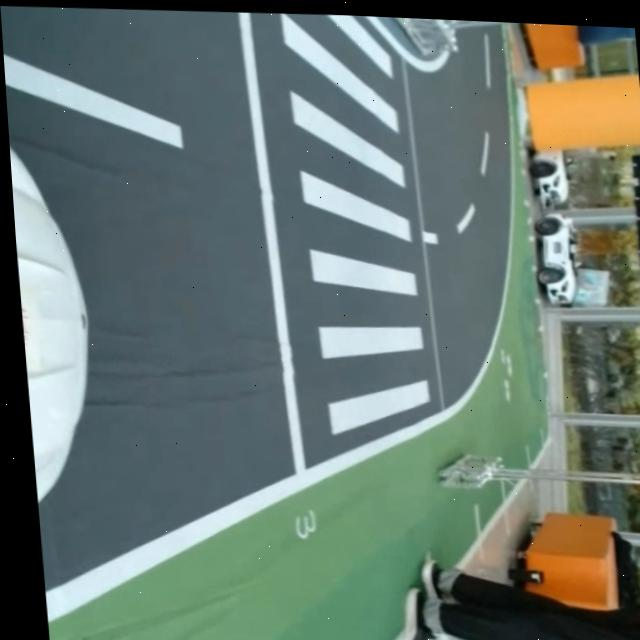traffic-light: (627, 151, 640, 318)
